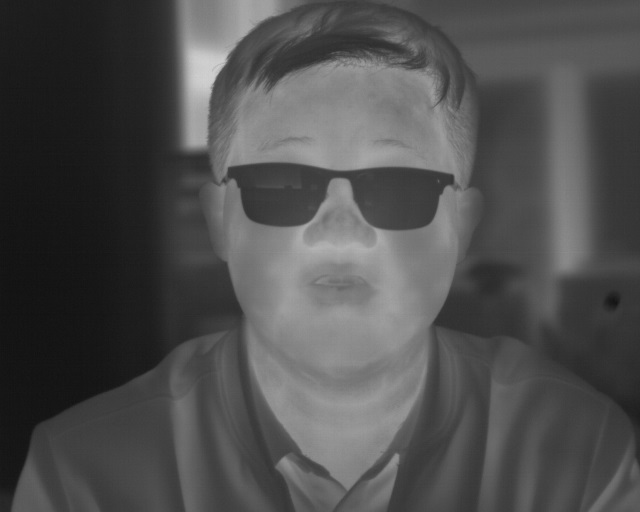face: (195, 2, 482, 381)
